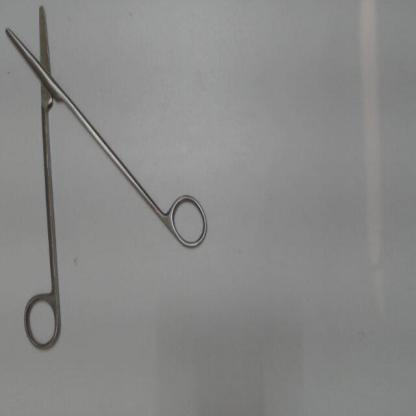9 Metzenbaum Scissors: (3, 3, 212, 357)
